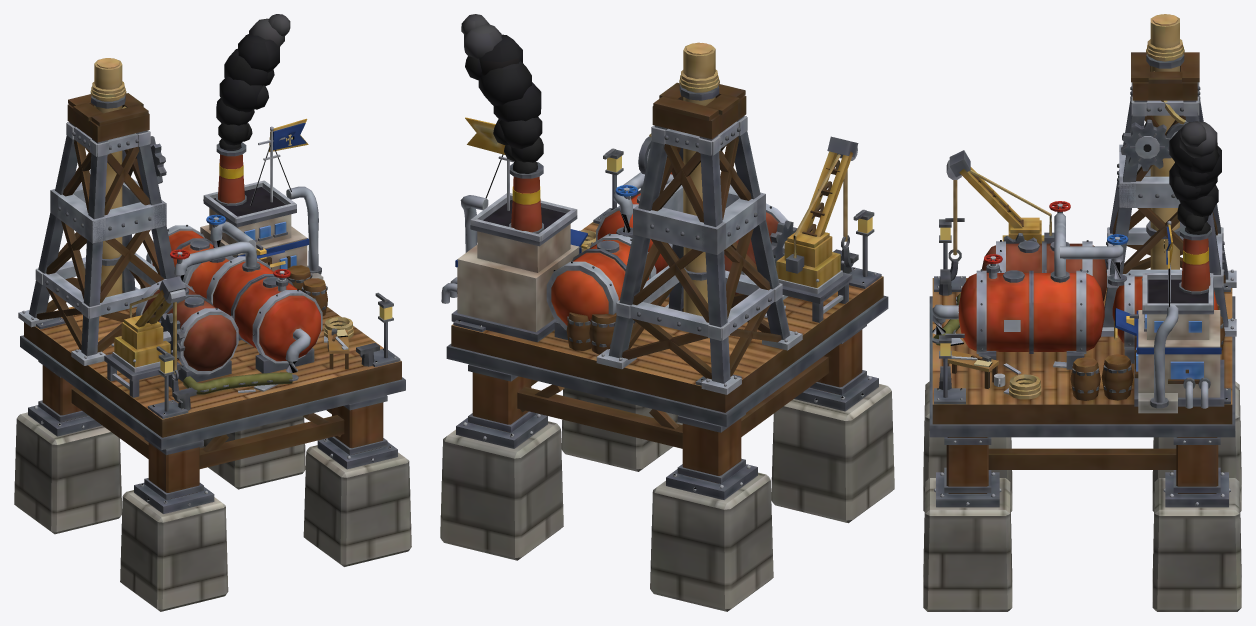
Rendered from oil_platform.glb.
The picture shows the model from 3 angles, left to right: view 1: azimuth 30°, elevation 25°; view 2: azimuth 150°, elevation 25°; view 3: azimuth 270°, elevation 25°; orthographic projection. The views are drawn at different scales.
Parts seen in each view (by area): view 1: Static_Mesh, Anim_Smoke, Anim_Drill, Anim_Crane, Anim_Banners; view 2: Static_Mesh, Anim_Smoke, Anim_Crane, Anim_Drill, Anim_Banners; view 3: Static_Mesh, Anim_Smoke, Anim_Drill, Anim_Crane, Anim_Banners.
Boxes of the visible parts, left/top/right/bottom form: Static_Mesh: left=14, top=93, right=411, bottom=611; Anim_Smoke: left=216, top=14, right=290, bottom=149; Anim_Drill: left=90, top=58, right=126, bottom=297; Anim_Crane: left=124, top=276, right=185, bottom=402; Anim_Banners: left=237, top=118, right=309, bottom=267; Static_Mesh: left=440, top=82, right=894, bottom=611; Anim_Smoke: left=461, top=14, right=543, bottom=173; Anim_Crane: left=786, top=136, right=858, bottom=273; Anim_Drill: left=679, top=42, right=719, bottom=316; Anim_Banners: left=455, top=117, right=588, bottom=267; Static_Mesh: left=923, top=52, right=1241, bottom=611; Anim_Smoke: left=1169, top=121, right=1221, bottom=234; Anim_Drill: left=1146, top=14, right=1184, bottom=269; Anim_Crane: left=939, top=150, right=1054, bottom=280; Anim_Banners: left=1114, top=224, right=1221, bottom=354.
Bounding box in the file's own units: 5.3 × 8.52 × 5.
2 materials, 2 textured.
